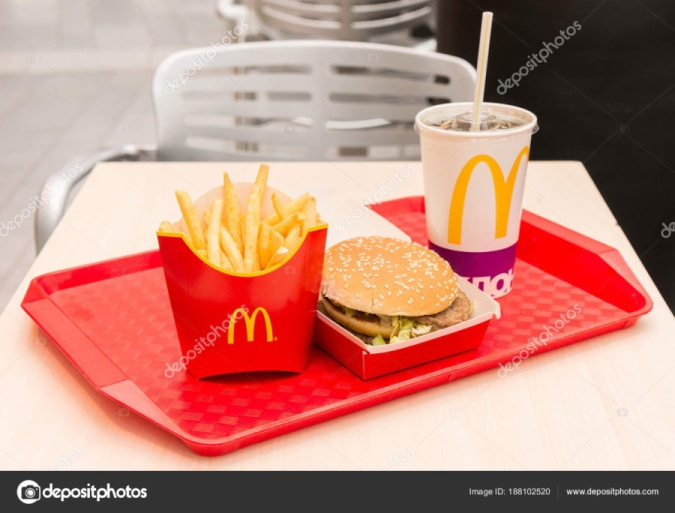mcdonalds: (214, 303, 279, 355)
